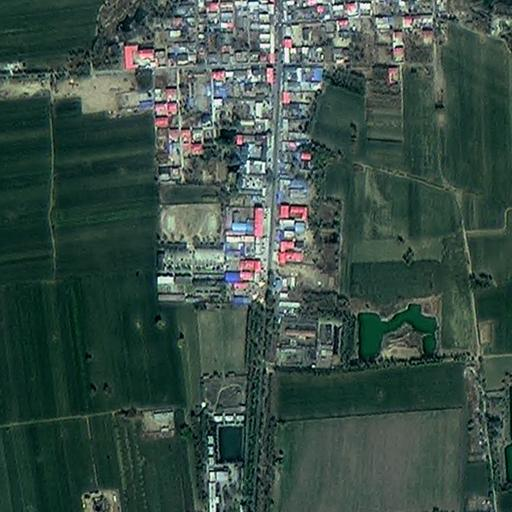school: (153, 201, 225, 303)
